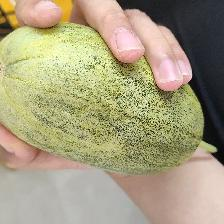gua: (4, 25, 209, 178)
